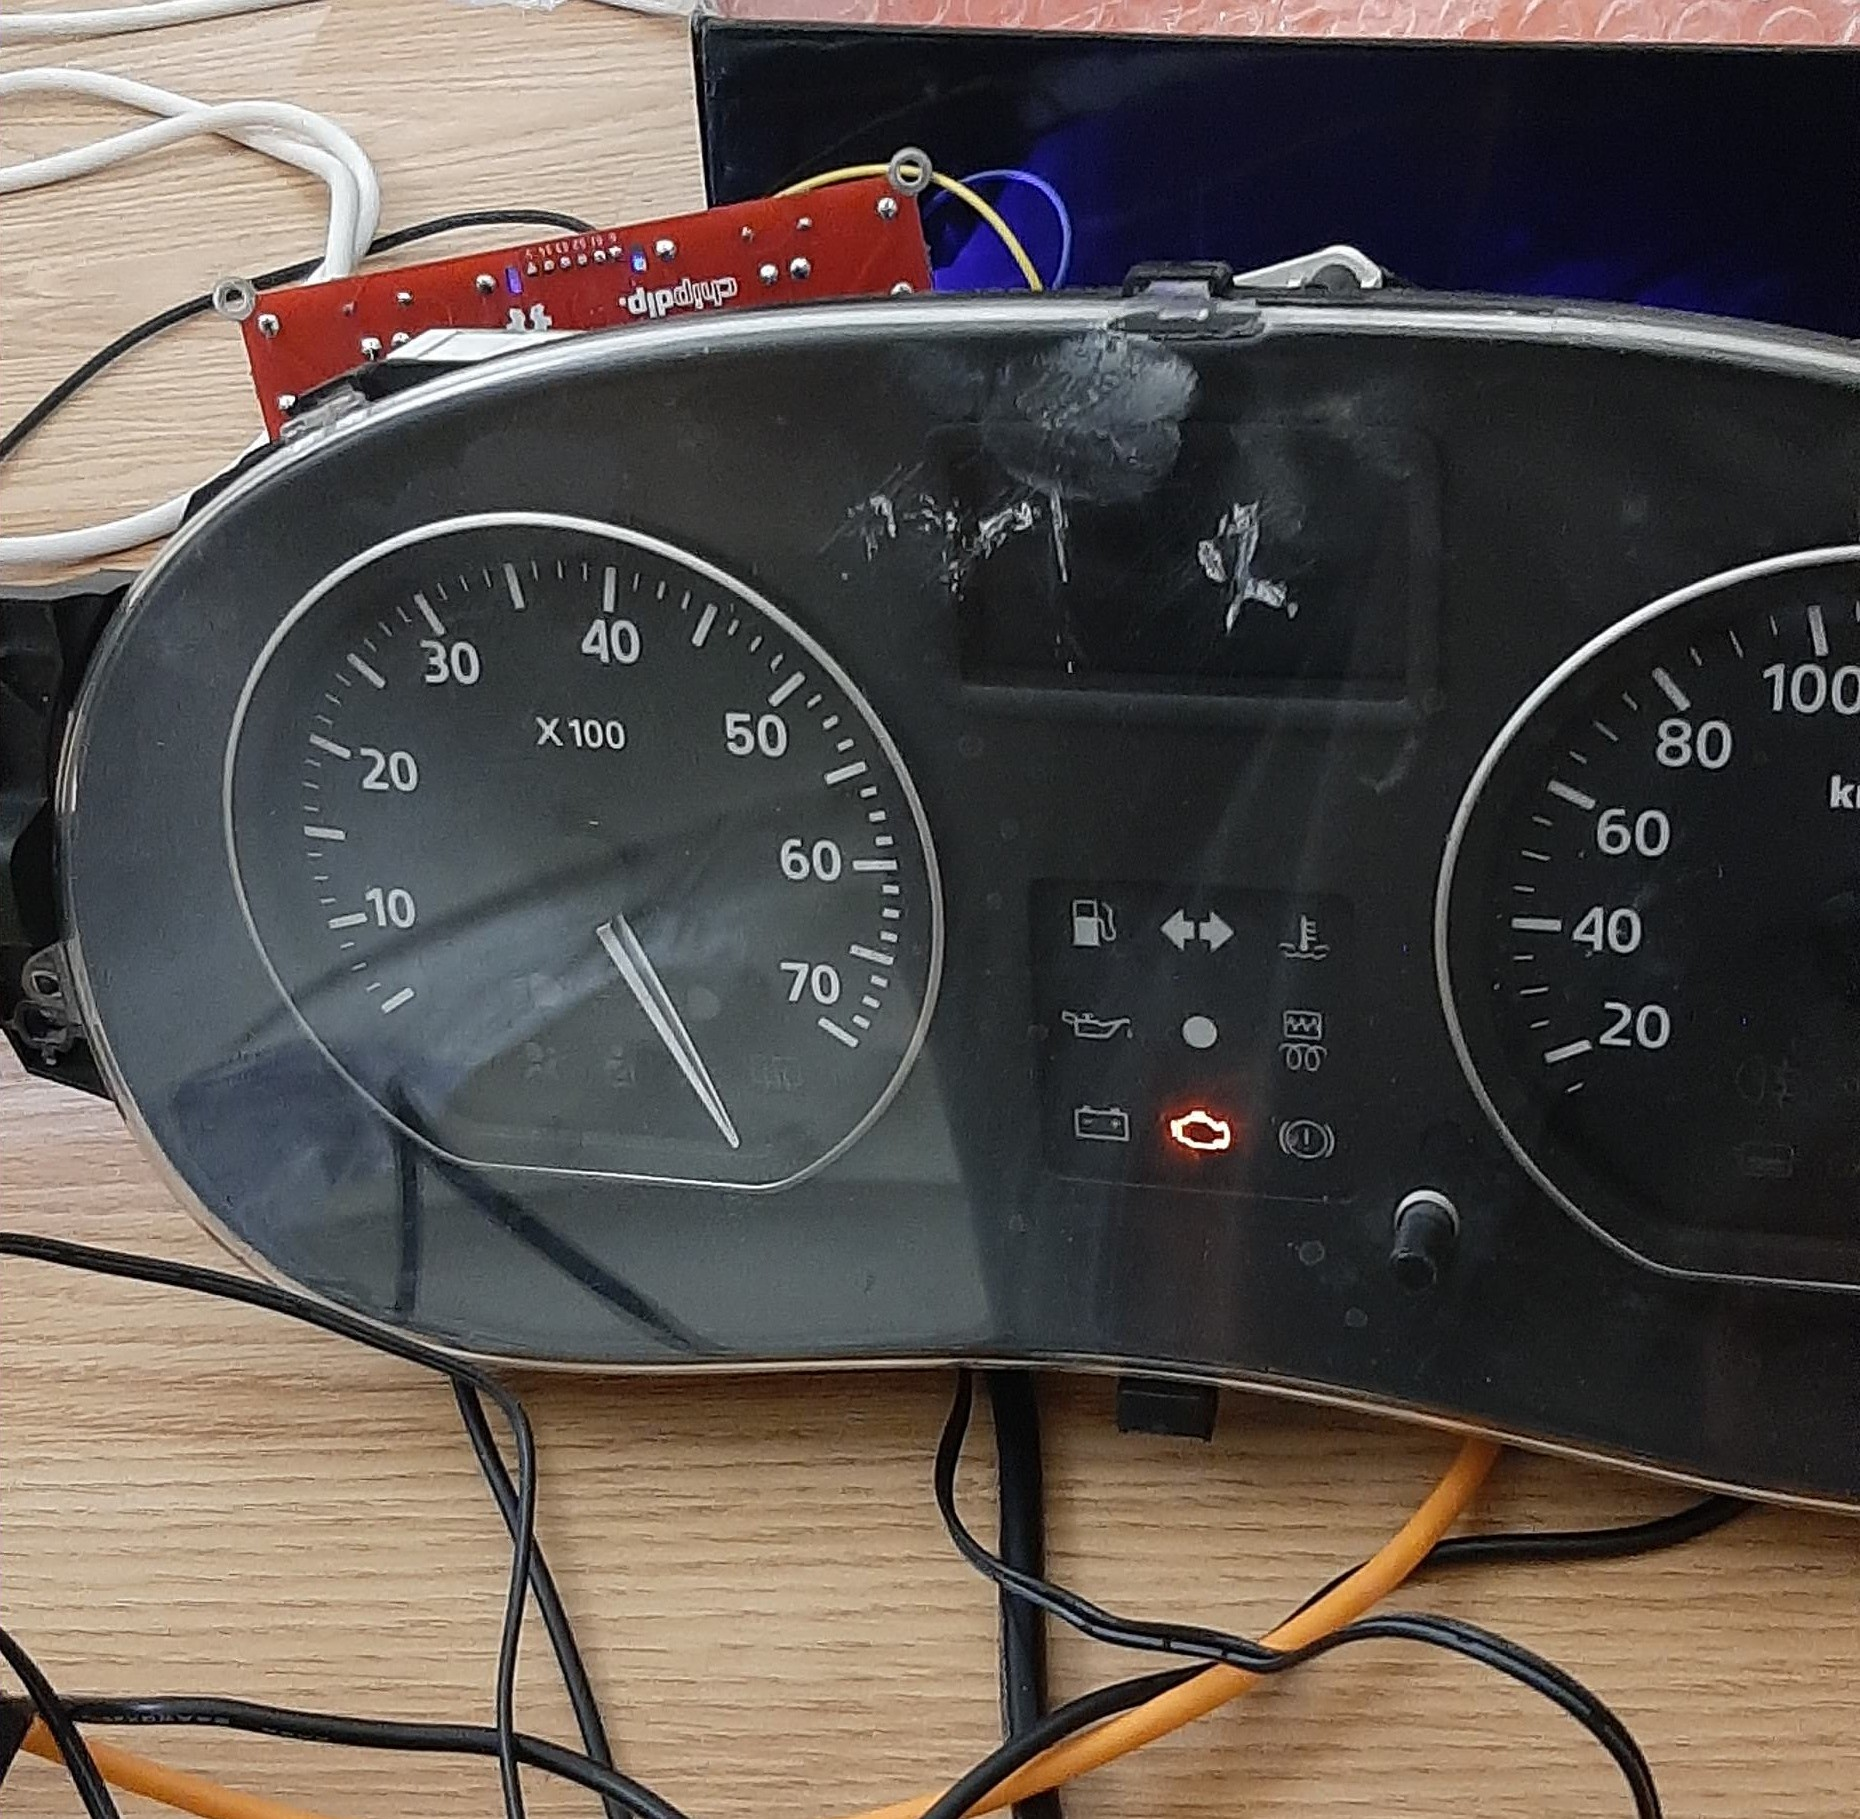engine25: (1167, 1106, 1232, 1151)
